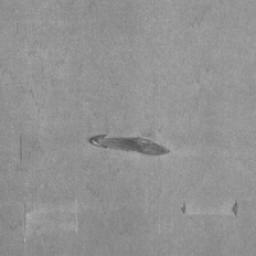Rolled pit: (88, 135, 170, 156), (232, 201, 239, 216), (19, 136, 23, 162), (181, 203, 186, 214)
